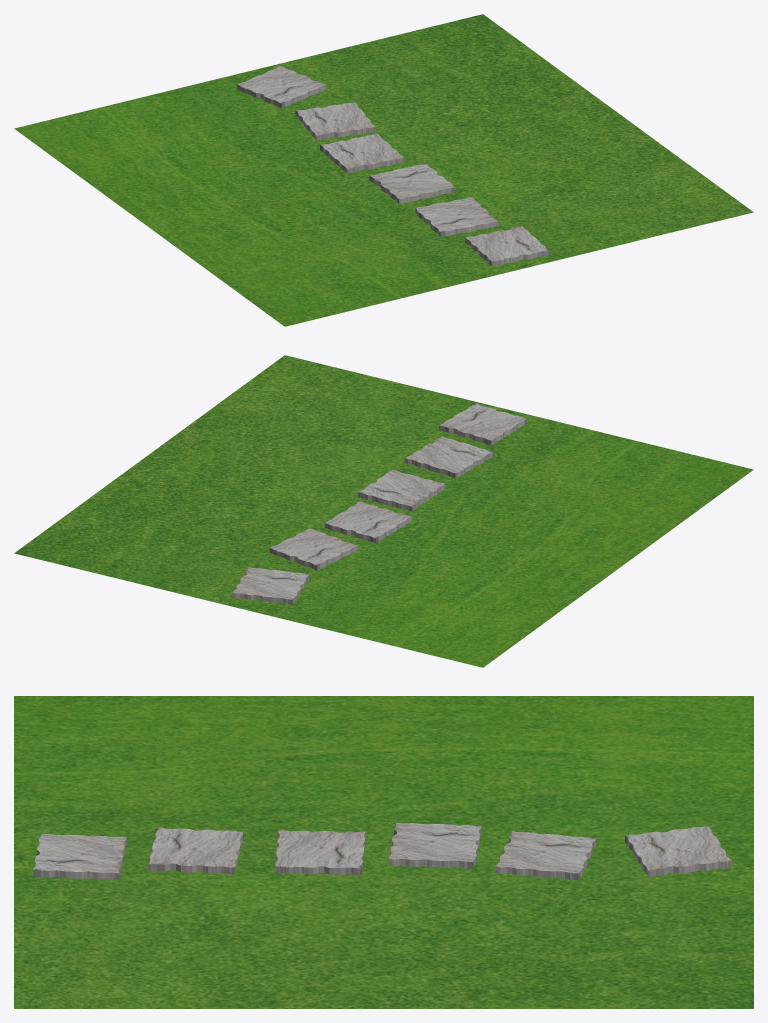
File: pathNS.glb
3 views of the same model, one above another, from view 1: azimuth 30°, elevation 25°; view 2: azimuth 150°, elevation 25°; view 3: azimuth 270°, elevation 25° (orthographic). The views are drawn at different scales.
Visible parts, largest first — view 1: Plane, Plane.007, Plane.004, Plane.003, Plane.001, Plane.005, Plane.006; view 2: Plane, Plane.003, Plane.004, Plane.005, Plane.001, Plane.006, Plane.007; view 3: Plane, Plane.007, Plane.003, Plane.001, Plane.005, Plane.004, Plane.006.
Part boxes in pixels (x1,y1,x2,y2): Plane: [14, 14, 753, 326]; Plane.007: [237, 65, 326, 108]; Plane.004: [369, 163, 454, 204]; Plane.003: [415, 197, 498, 237]; Plane.001: [465, 226, 549, 266]; Plane.005: [320, 134, 404, 173]; Plane.006: [295, 102, 375, 140]; Plane: [14, 355, 753, 667]; Plane.003: [404, 436, 493, 478]; Plane.004: [358, 470, 445, 511]; Plane.005: [324, 501, 412, 543]; Plane.001: [439, 403, 526, 445]; Plane.006: [269, 528, 358, 570]; Plane.007: [232, 567, 309, 604]; Plane: [14, 696, 753, 1008]; Plane.007: [625, 826, 731, 877]; Plane.003: [148, 827, 243, 874]; Plane.001: [33, 833, 126, 879]; Plane.005: [388, 822, 481, 868]; Plane.004: [275, 830, 365, 875]; Plane.006: [495, 831, 596, 880].
Bounding box in the file's own units: 1 × 0.0123 × 1.
2 materials, 2 textured.
